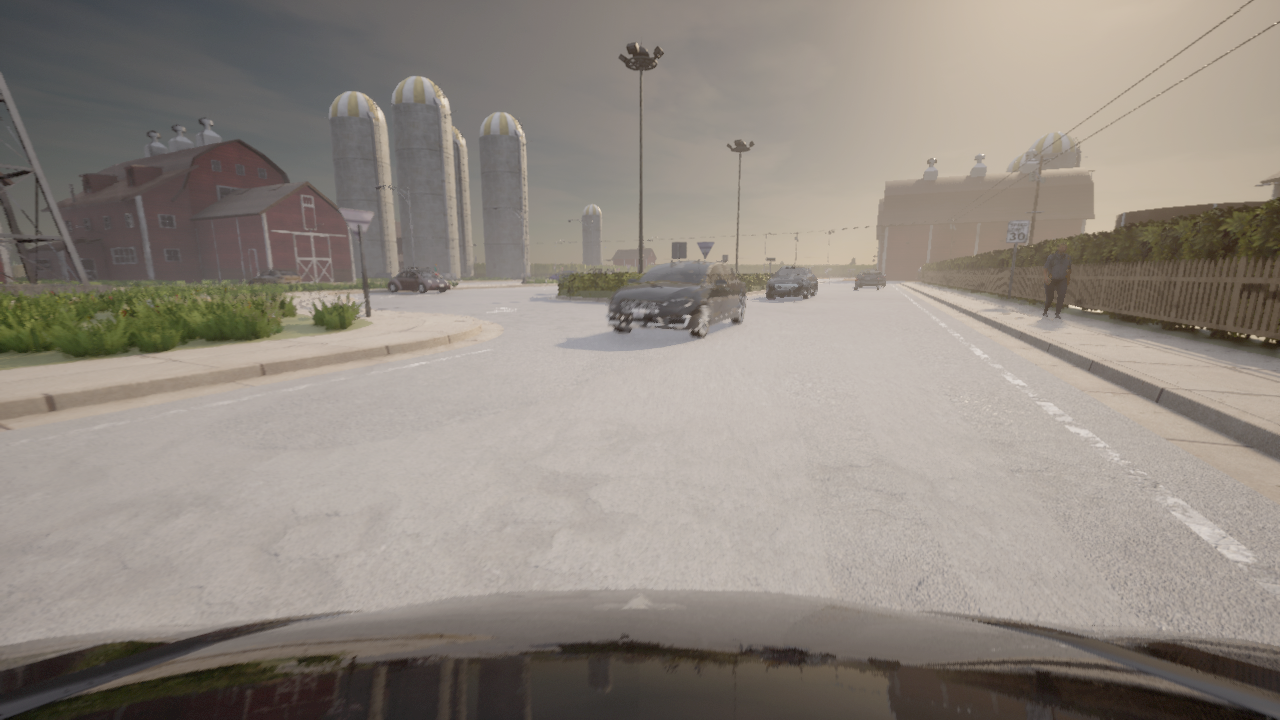cyclist: (0, 588, 1279, 719), (604, 259, 746, 338), (766, 265, 816, 299), (387, 270, 450, 293), (248, 270, 302, 286), (853, 269, 881, 290), (407, 266, 443, 278), (549, 271, 578, 280), (586, 268, 617, 273), (877, 271, 885, 286), (914, 266, 921, 279)
pedestrian: (1042, 241, 1071, 319), (432, 263, 440, 277)
